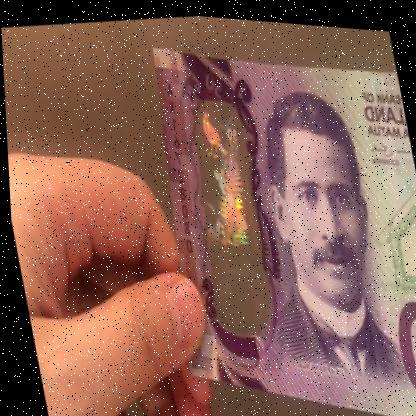50F: (185, 96, 274, 315)
